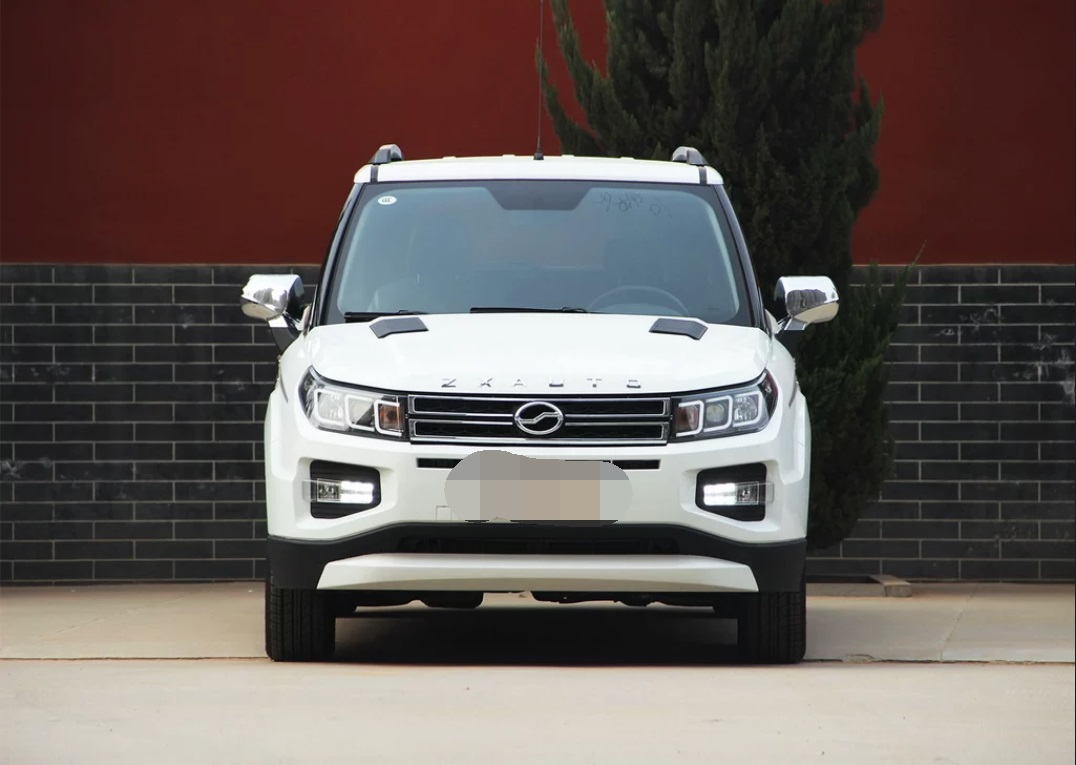SUV: (236, 139, 844, 661)
